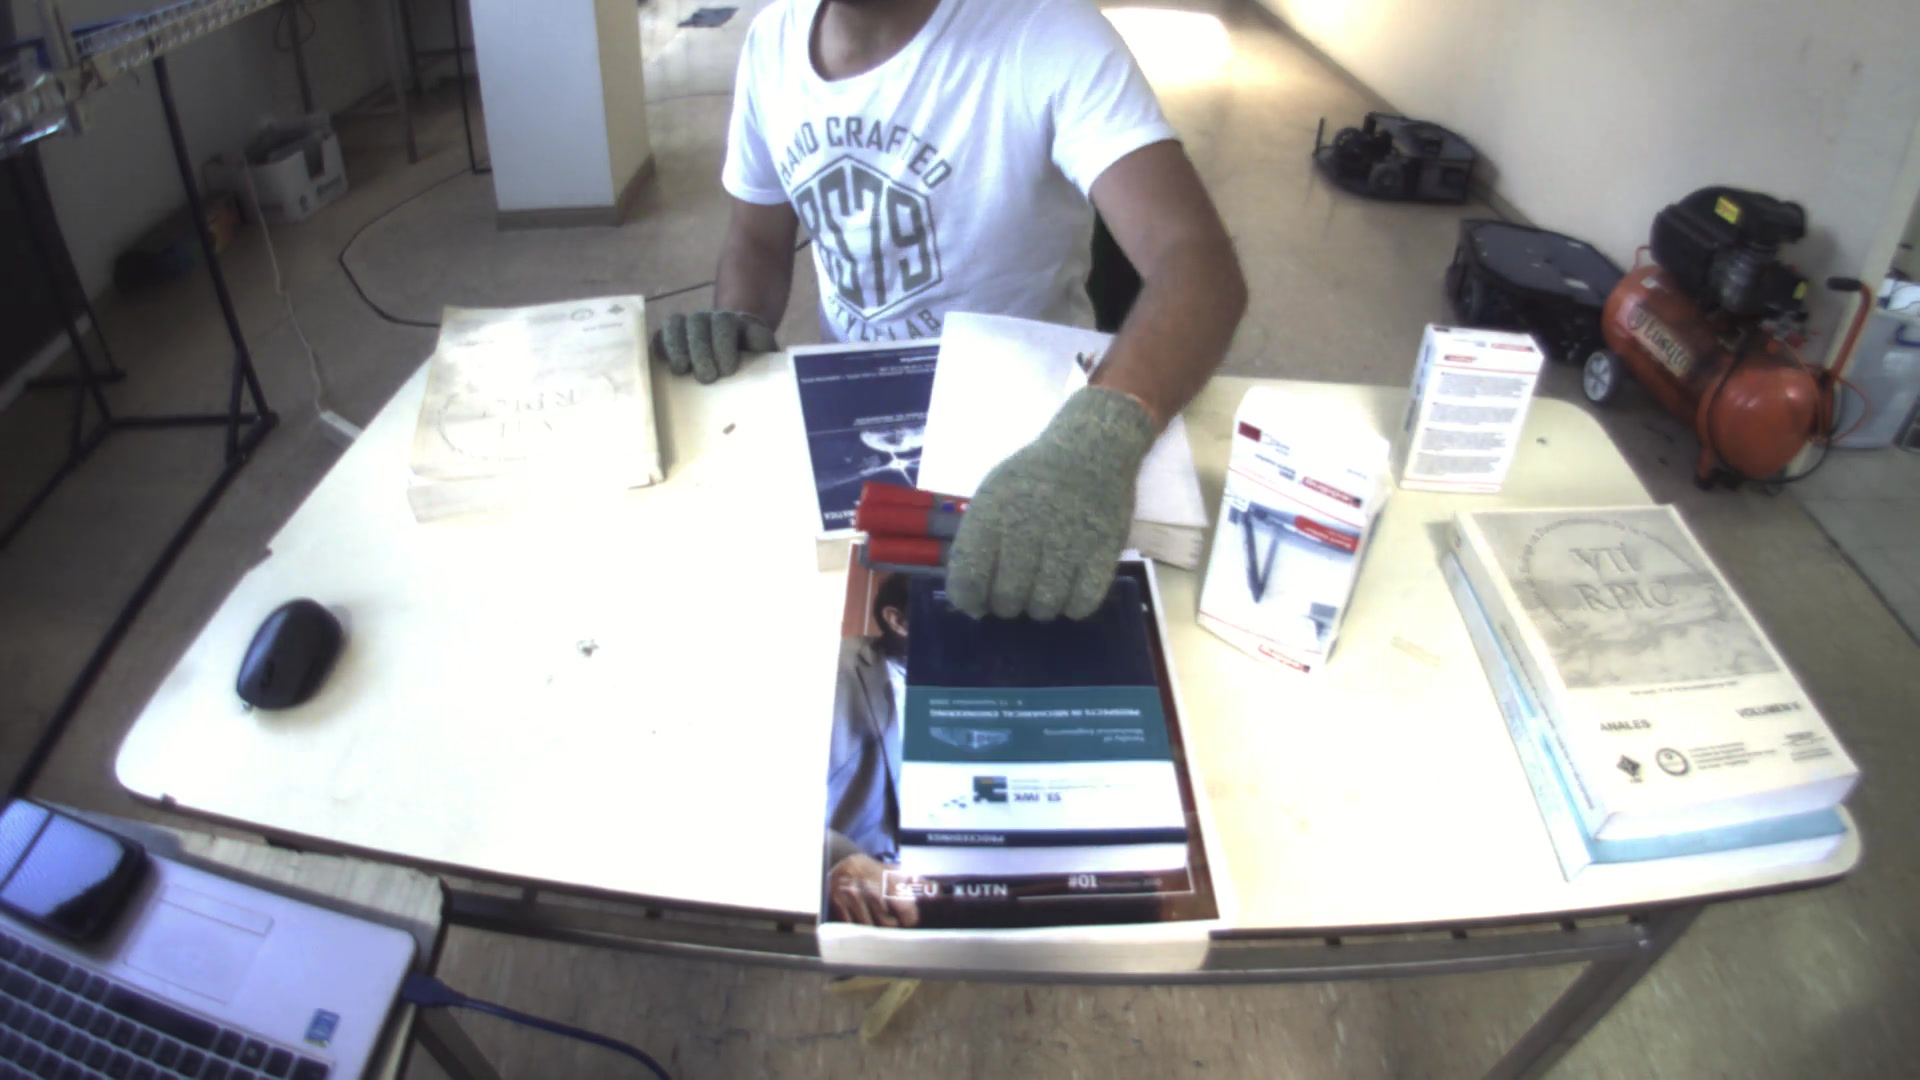hand: (943, 384, 1168, 632), (640, 294, 771, 373)
